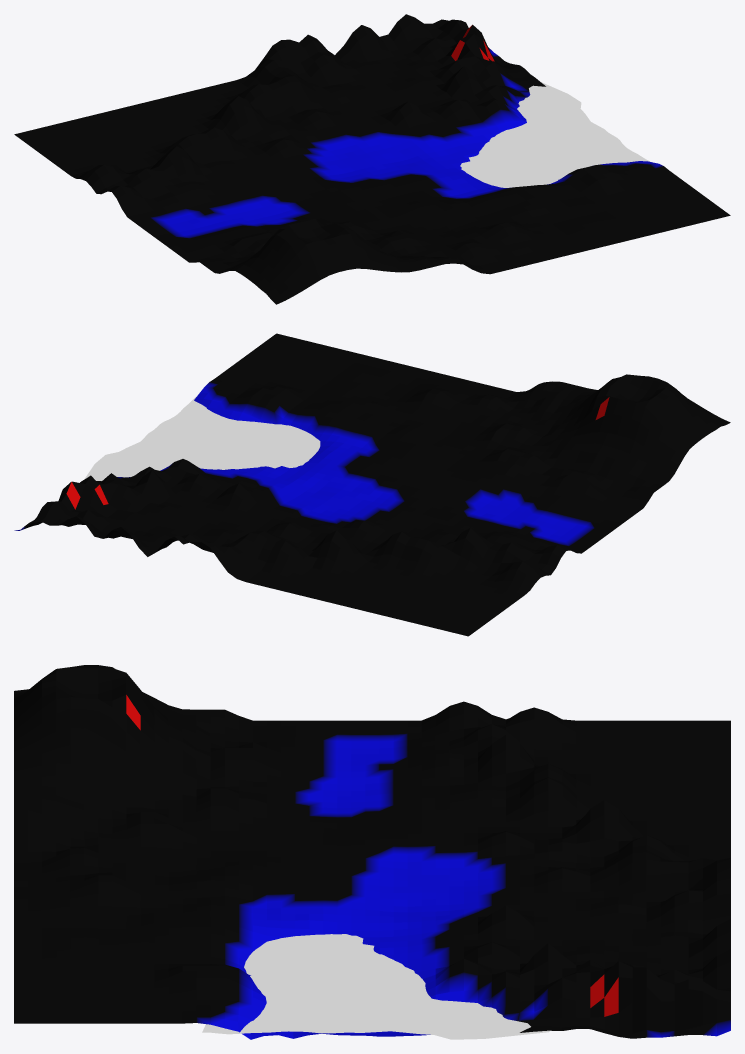
File: world_landscape_6km.glb
3 views of the same model, one above another, from view 1: azimuth 30°, elevation 25°; view 2: azimuth 150°, elevation 25°; view 3: azimuth 270°, elevation 25° (orthographic). The views are drawn at different scales.
Parts seen in each view (by area): view 1: geo, Ocean; view 2: geo, Ocean; view 3: geo, Ocean.
Boxes of the visible parts, x1=… form: geo: x1=14, y1=14, x2=730, y2=304; Ocean: x1=460, y1=82, x2=650, y2=187; geo: x1=14, y1=333, x2=730, y2=636; Ocean: x1=84, y1=396, x2=320, y2=480; geo: x1=14, y1=665, x2=730, y2=1039; Ocean: x1=202, y1=934, x2=549, y2=1039.
Bounding box in the file's own units: 6141 × 1079 × 6000.
